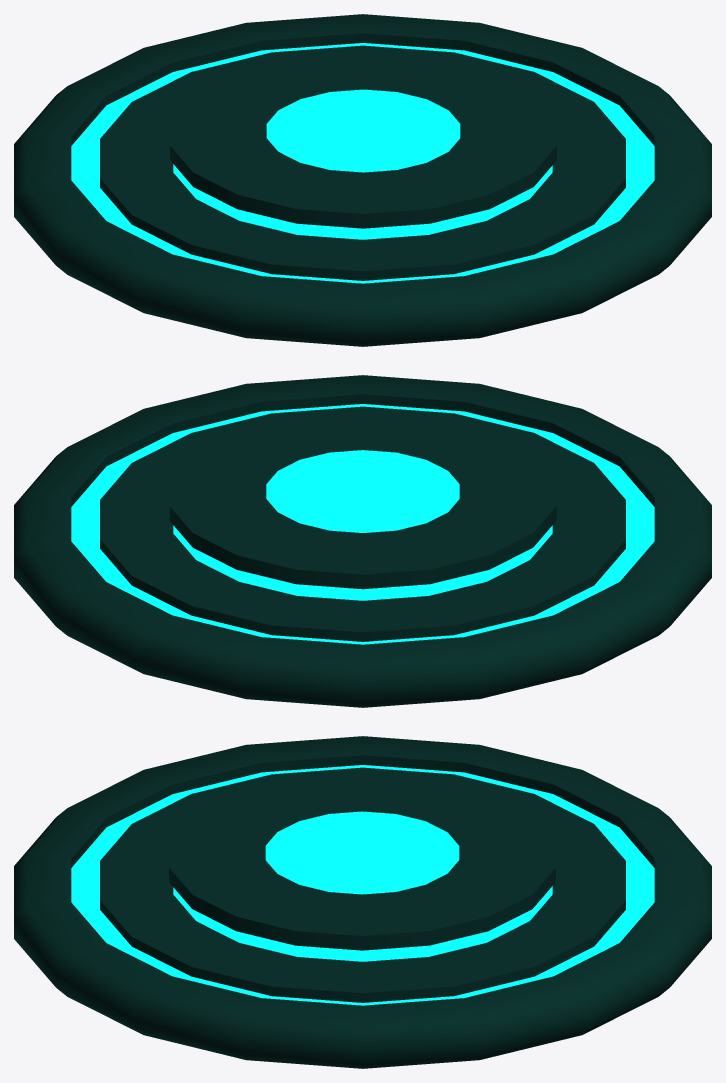
The model's file is Jumppad.FBX.
The picture shows the model from 3 angles, top to bottom: view 1: azimuth 30°, elevation 25°; view 2: azimuth 150°, elevation 25°; view 3: azimuth 270°, elevation 25°; orthographic projection.
Visible parts, largest first — view 1: JumppadBase, JumppadPad; view 2: JumppadBase, JumppadPad; view 3: JumppadBase, JumppadPad.
Part boxes in pixels (x1,y1,x2,y2): JumppadBase: (14, 14, 711, 346); JumppadPad: (170, 48, 556, 228); JumppadBase: (14, 375, 711, 707); JumppadPad: (169, 408, 556, 589); JumppadBase: (14, 736, 711, 1068); JumppadPad: (169, 770, 555, 950).
Size of the model in its own units: 120 by 13.39 by 118.
